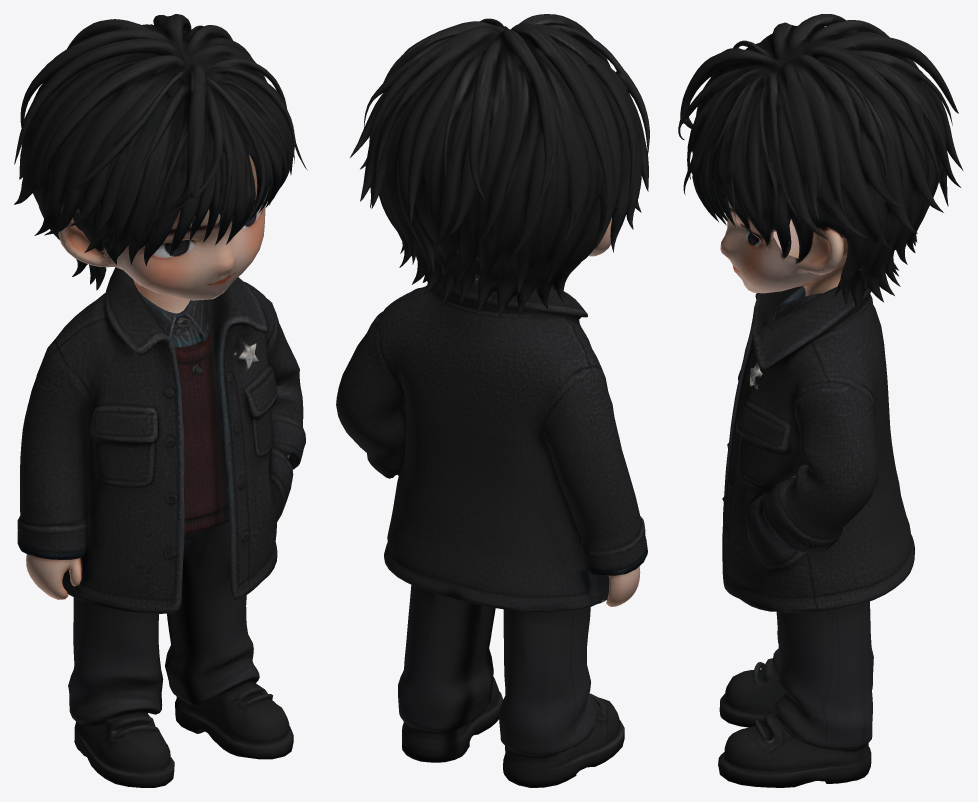
Rendered from 03-rebel.glb.
3 views of the same model, side by side, from view 1: azimuth 30°, elevation 25°; view 2: azimuth 150°, elevation 25°; view 3: azimuth 270°, elevation 25° (orthographic). The views are drawn at different scales.
Visible parts, largest first — view 1: tripo_node_248b0547; view 2: tripo_node_248b0547; view 3: tripo_node_248b0547.
Part boxes in pixels (x1,y1,x2,y2): tripo_node_248b0547: (14,14,307,787); tripo_node_248b0547: (336,14,649,787); tripo_node_248b0547: (678,14,963,787).
Size of the model in its own units: 0.4146 by 0.9995 by 0.3647.
1 material, 1 textured.
